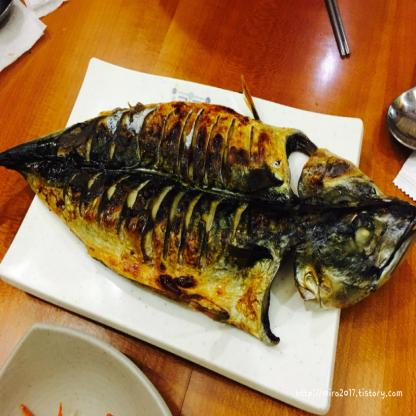Peixe: (0, 85, 416, 324)
